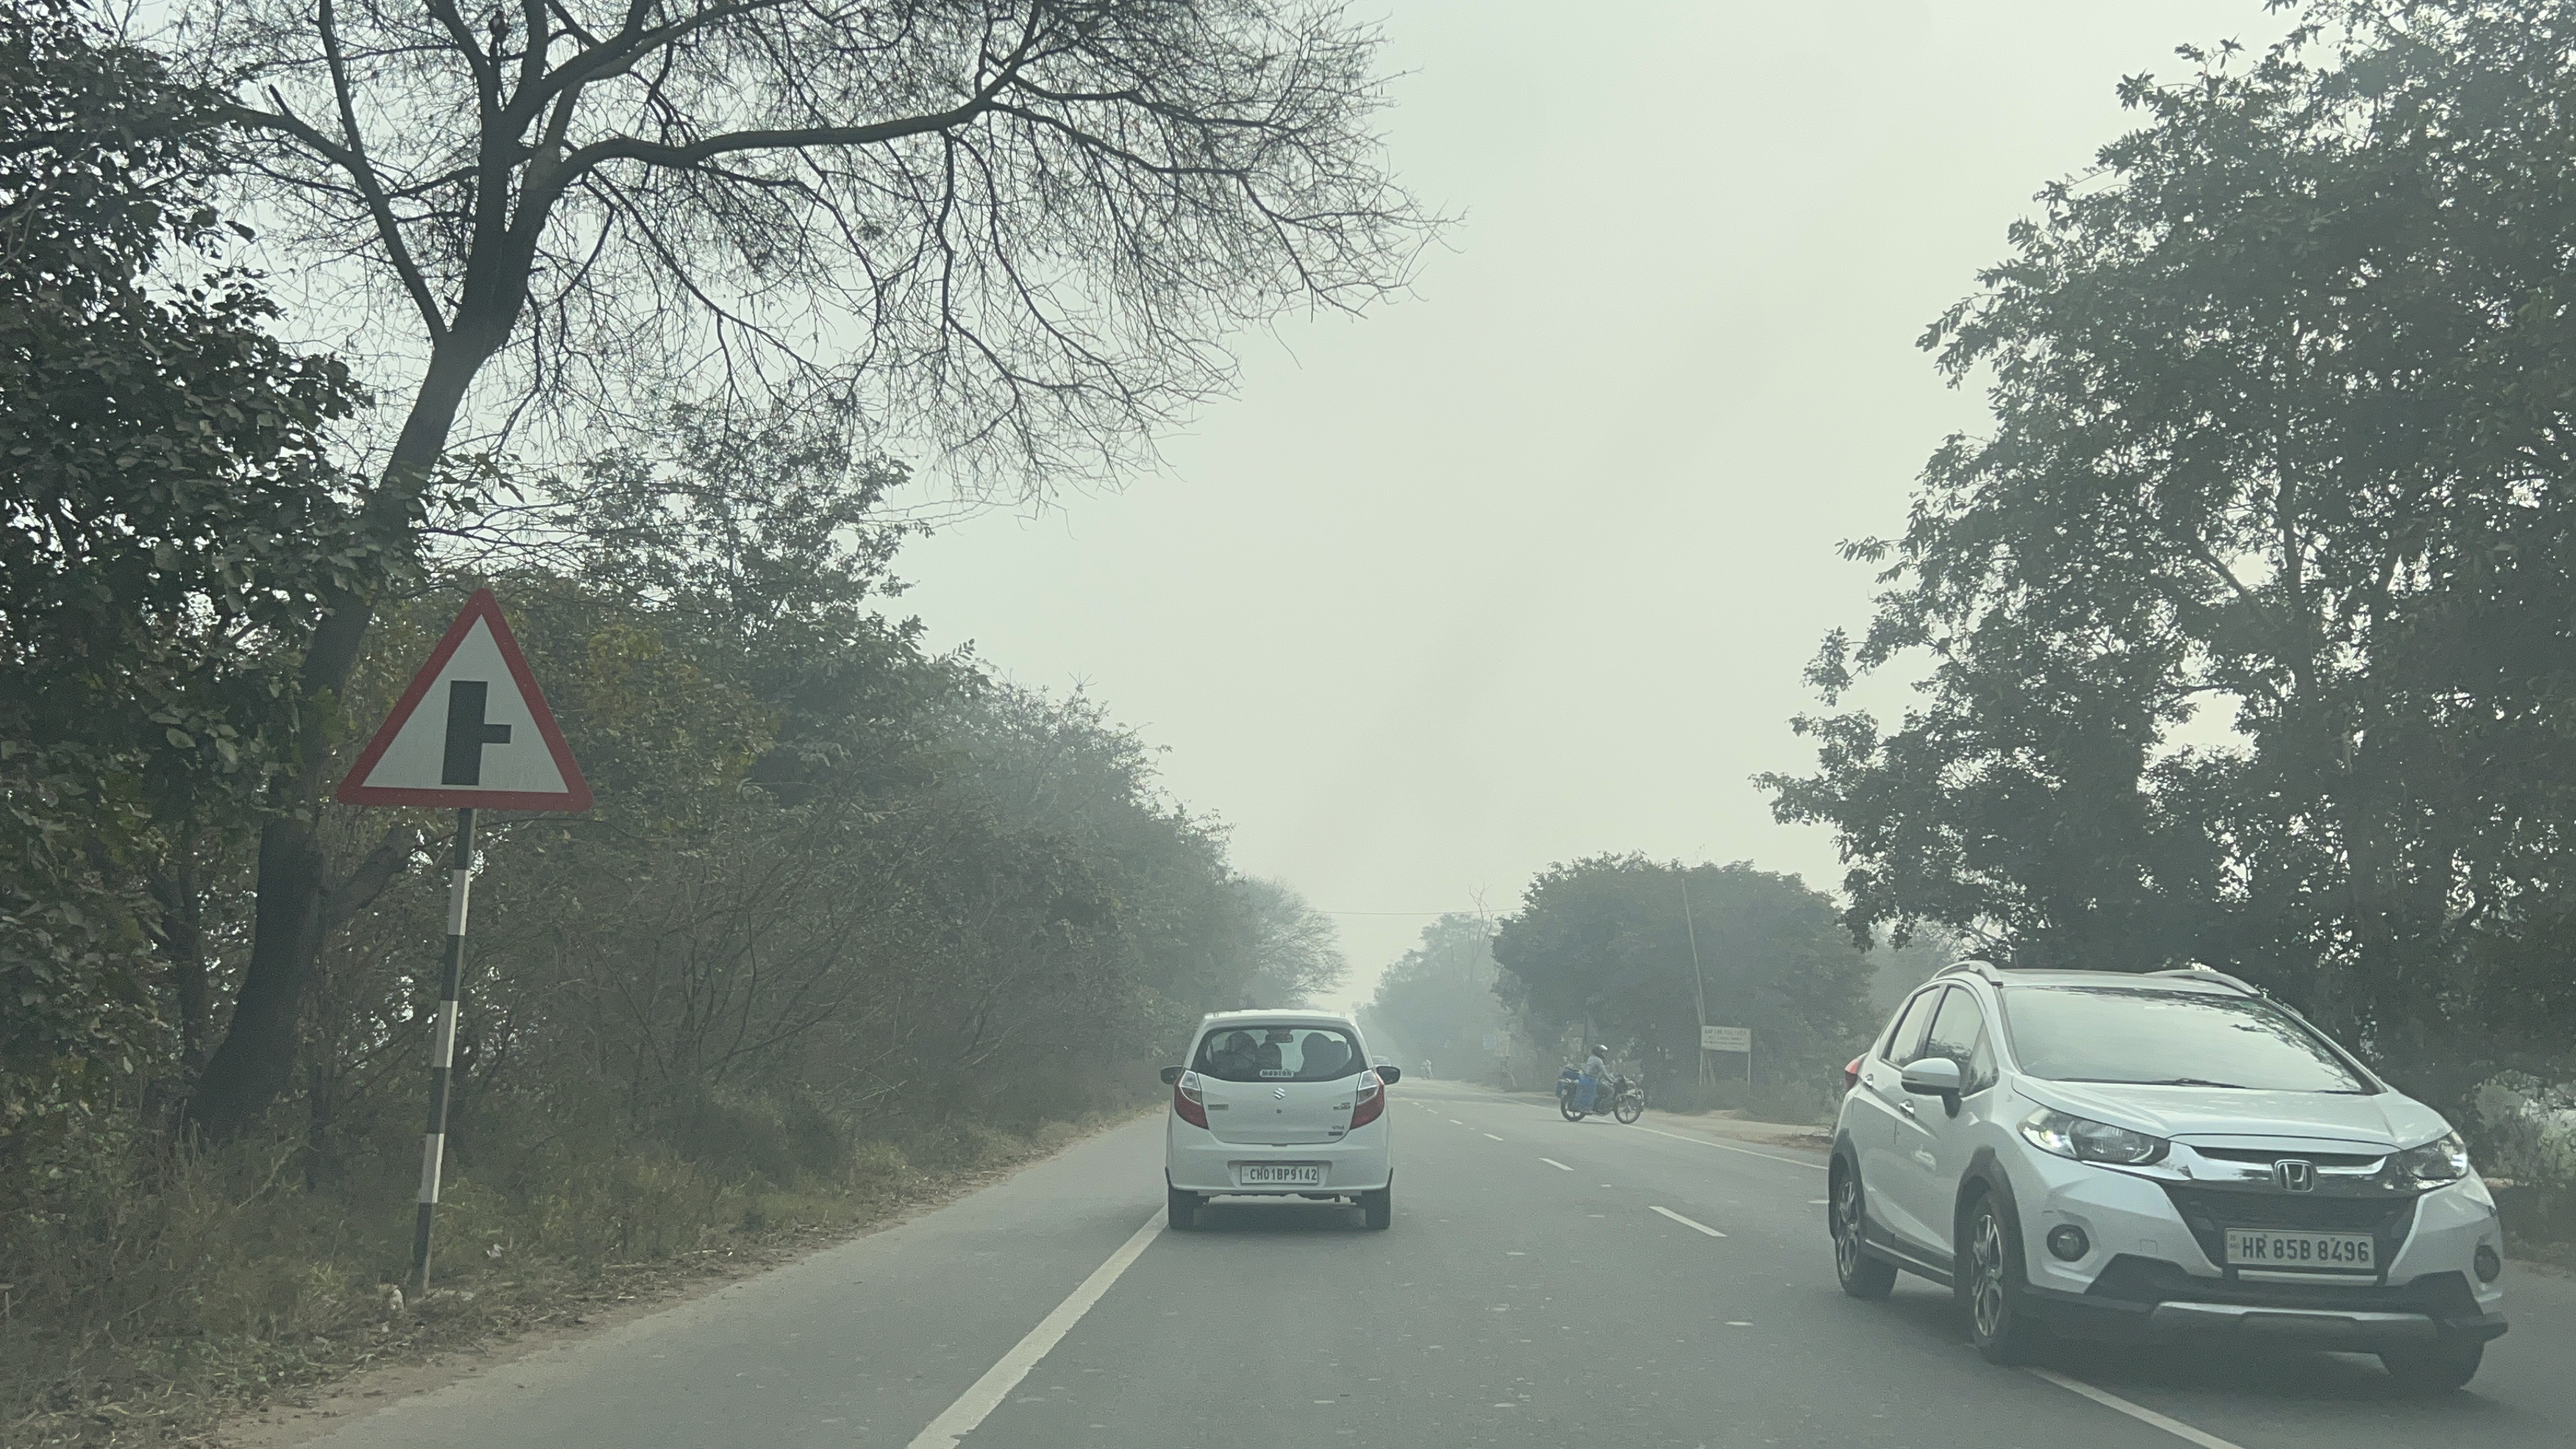Warning: (326, 564, 605, 828)
